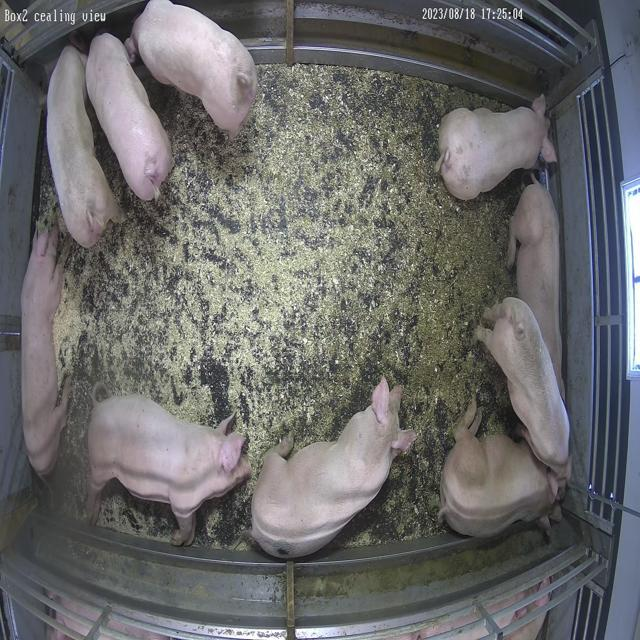Dirt: (321, 72, 523, 548)
Pig: (252, 379, 415, 560), (87, 395, 251, 546), (125, 0, 257, 136), (477, 298, 571, 480), (440, 399, 560, 538), (46, 45, 122, 248), (85, 33, 171, 200), (437, 95, 558, 200), (20, 226, 69, 478), (509, 180, 563, 390)
